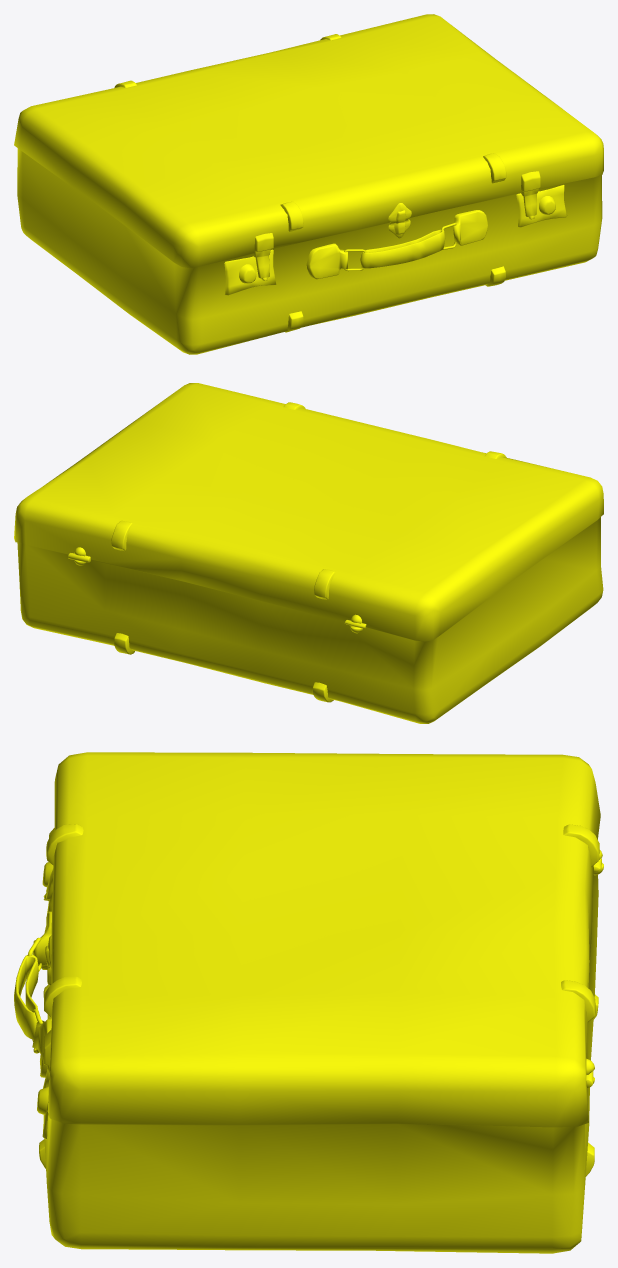
Rendered from Old_Suitcase.glb.
The picture shows the model from 3 angles, top to bottom: view 1: azimuth 30°, elevation 25°; view 2: azimuth 150°, elevation 25°; view 3: azimuth 270°, elevation 25°; orthographic projection. The views are drawn at different scales.
Visible parts, largest first — view 1: Old_Suitcase; view 2: Old_Suitcase; view 3: Old_Suitcase.
Boxes of the visible parts, left/top/right/bottom form: Old_Suitcase: left=14, top=14, right=603, bottom=354; Old_Suitcase: left=14, top=383, right=603, bottom=723; Old_Suitcase: left=14, top=752, right=603, bottom=1253.
Bounding box in the file's own units: 0.7997 × 0.2431 × 0.6243.
1 material, 1 textured.
